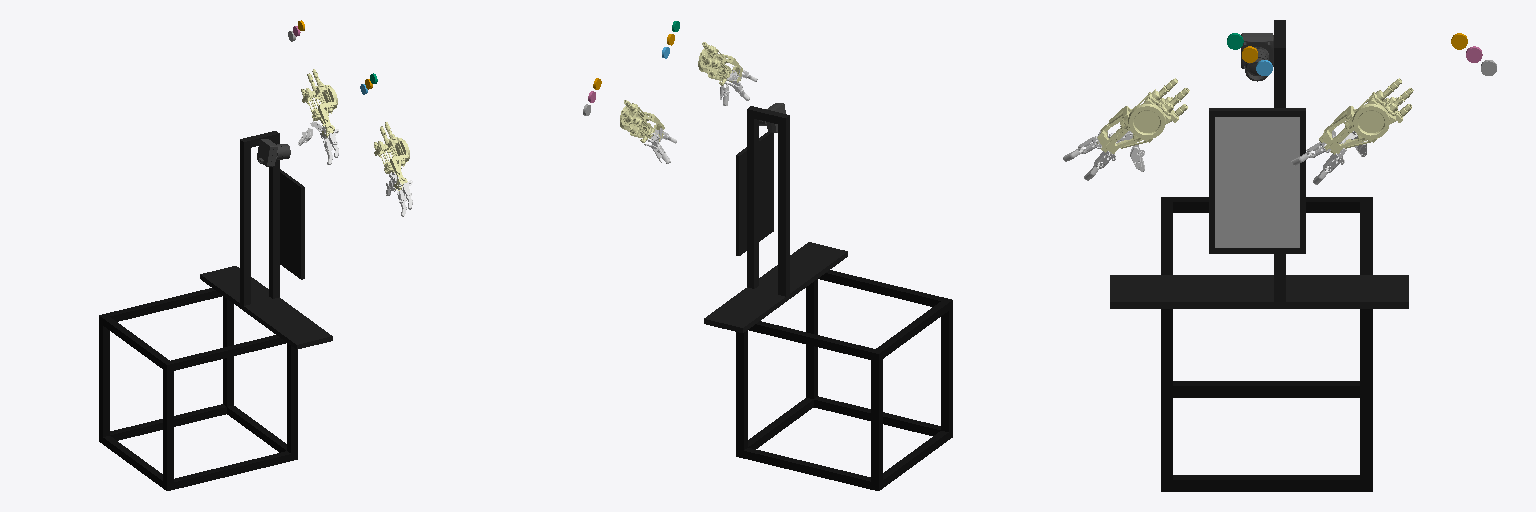
--- Facts derived from the render (not from the file) ---
The picture shows the robot from 3 angles, left to right: view 1: azimuth 30°, elevation 25°; view 2: azimuth 150°, elevation 25°; view 3: azimuth 270°, elevation 25°; orthographic projection.
Model avatar with 65 links and 64 joints (34 revolute, 30 fixed), rooted at base, posed joints at zero except 8 at the middle of their limits (right_panda_joint4 = -1.57, right_thumb_flex_motor_joint = -1.19, right_thumb_swivel_motor_joint = -1.18, right_index_flex_motor_joint = -1.19, left_panda_joint4 = -1.57, left_thumb_flex_motor_joint = -1.19, +2 more).
Visible links, largest first — view 1: base, support, cam_support, screen, left_gripper_base, right_gripper_base, camera; view 2: base, cam_support, support, screen, left_gripper_base, right_gripper_base; view 3: base, screen, support, left_gripper_base, right_gripper_base, cam_support, camera.
Boxes of the visible links, x1,y1,x2,y2 form: base: [99, 288, 297, 490]; support: [200, 266, 332, 349]; cam_support: [240, 131, 279, 309]; screen: [280, 169, 304, 279]; left_gripper_base: [301, 69, 337, 137]; right_gripper_base: [374, 122, 409, 190]; camera: [257, 139, 290, 166]; base: [736, 270, 952, 490]; cam_support: [747, 106, 789, 298]; support: [704, 242, 847, 332]; screen: [736, 132, 773, 255]; left_gripper_base: [620, 100, 664, 142]; right_gripper_base: [698, 42, 742, 85]; base: [1161, 197, 1372, 491]; screen: [1209, 108, 1305, 253]; support: [1110, 275, 1408, 308]; left_gripper_base: [1319, 78, 1413, 154]; right_gripper_base: [1097, 78, 1189, 153]; cam_support: [1274, 20, 1285, 306]; camera: [1241, 33, 1273, 81].
Bounding box of the posed robot: 1 × 1.05 × 1.42 m (x, y, z).
21 mesh visuals loaded from 25 distinct referenced files (9 binary STL); not drawn: 16 (reference not matched to a file when rendering).

robot.urdf — avatar:
<?xml version="1.0" ?>
<!-- =================================================================================== -->
<!-- |    This document was autogenerated by xacro from [local-path]/repo/avatar_ws/src/avatar_simulation/avatar_robot_description/franka/dual_panda/dual_panda_example.urdf.xacro | -->
<!-- |    EDITING THIS FILE BY HAND IS NOT RECOMMENDED                                 | -->
<!-- =================================================================================== -->
<robot name="avatar">
  <!-- box shaped table as base for the 2 Pandas -->
  <!-- prop in meters -->
  <link name="base">
    <!-- Box edge visualization -->
    <!-- Top face -->
    <visual>
      <origin rpy="0 0 0" xyz="0.26749999999999996 0 -0.245"/>
      <geometry>
        <box size="0.03 0.51 0.03"/>
      </geometry>
      <material name="Mat Black 1">
        <color rgba="0.1 0.1 0.1 1.0"/>
      </material>
    </visual>
    <visual>
      <origin rpy="0 0 0" xyz="0.26749999999999996 0 0.245"/>
      <geometry>
        <box size="0.03 0.51 0.03"/>
      </geometry>
      <material name="Mat Black 1">
        <color rgba="0.1 0.1 0.1 1.0"/>
      </material>
    </visual>
    <visual>
      <origin rpy="0 0 0" xyz="0.26749999999999996 -0.24 0"/>
      <geometry>
        <box size="0.03 0.03 0.52"/>
      </geometry>
      <material name="Mat Black 1">
        <color rgba="0.1 0.1 0.1 1.0"/>
      </material>
    </visual>
    <visual>
      <origin rpy="0 0 0" xyz="0.26749999999999996 0.24 0"/>
      <geometry>
        <box size="0.03 0.03 0.52"/>
      </geometry>
      <material name="Mat Black 1">
        <color rgba="0.1 0.1 0.1 1.0"/>
      </material>
    </visual>
    <!-- Bottom face -->
    <visual>
      <origin rpy="0 0 0" xyz="-0.26749999999999996 0 -0.245"/>
      <geometry>
        <box size="0.03 0.51 0.03"/>
      </geometry>
      <material name="Mat Black 1">
        <color rgba="0.1 0.1 0.1 1.0"/>
      </material>
    </visual>
    <visual>
      <origin rpy="0 0 0" xyz="-0.26749999999999996 0 0.245"/>
      <geometry>
        <box size="0.03 0.51 0.03"/>
      </geometry>
      <material name="Mat Black 1">
        <color rgba="0.1 0.1 0.1 1.0"/>
      </material>
    </visual>
    <visual>
      <origin rpy="0 0 0" xyz="-0.26749999999999996 -0.24 0"/>
      <geometry>
        <box size="0.03 0.03 0.52"/>
      </geometry>
      <material name="Mat Black 1">
        <color rgba="0.1 0.1 0.1 1.0"/>
      </material>
    </visual>
    <visual>
      <origin rpy="0 0 0" xyz="-0.26749999999999996 0.24 0"/>
      <geometry>
        <box size="0.03 0.03 0.52"/>
      </geometry>
      <material name="Mat Black 1">
        <color rgba="0.1 0.1 0.1 1.0"/>
      </material>
    </visual>
    <!-- Side faces -->
    <!-- right -->
    <visual>
      <origin rpy="0 0 0" xyz="0 0.24 -0.245"/>
      <geometry>
        <box size="0.565 0.03 0.03"/>
      </geometry>
      <material name="Mat Black 1">
        <color rgba="0.1 0.1 0.1 1.0"/>
      </material>
    </visual>
    <visual>
      <origin rpy="0 0 0" xyz="0 0.24 0.245"/>
      <geometry>
        <box size="0.565 0.03 0.03"/>
      </geometry>
      <material name="Mat Black 1">
        <color rgba="0.1 0.1 0.1 1.0"/>
      </material>
    </visual>
    <visual>
      <origin rpy="0 0 0" xyz="-0.26749999999999996 0.24 0"/>
      <geometry>
        <box size="0.03 0.03 0.52"/>
      </geometry>
      <material name="Mat Black 1">
        <color rgba="0.1 0.1 0.1 1.0"/>
      </material>
    </visual>
    <visual>
      <origin rpy="0 0 0" xyz="0.26749999999999996 0.24 0"/>
      <geometry>
        <box size="0.03 0.03 0.52"/>
      </geometry>
      <material name="Mat Black 1">
        <color rgba="0.1 0.1 0.1 1.0"/>
      </material>
    </visual>
    <!-- left -->
    <visual>
      <origin rpy="0 0 0" xyz="0 -0.24 -0.245"/>
      <geometry>
        <box size="0.565 0.03 0.03"/>
      </geometry>
      <material name="Mat Black 1">
        <color rgba="0.1 0.1 0.1 1.0"/>
      </material>
    </visual>
    <visual>
      <origin rpy="0 0 0" xyz="0 -0.24 0.245"/>
      <geometry>
        <box size="0.565 0.03 0.03"/>
      </geometry>
      <material name="Mat Black 1">
        <color rgba="0.1 0.1 0.1 1.0"/>
      </material>
    </visual>
    <visual>
      <origin rpy="0 0 0" xyz="-0.26749999999999996 -0.24 0"/>
      <geometry>
        <box size="0.03 0.03 0.52"/>
      </geometry>
      <material name="Mat Black 1">
        <color rgba="0.1 0.1 0.1 1.0"/>
      </material>
    </visual>
    <visual>
      <origin rpy="0 0 0" xyz="0.26749999999999996 -0.24 0"/>
      <geometry>
        <box size="0.03 0.03 0.52"/>
      </geometry>
      <material name="Mat Black 1">
        <color rgba="0.1 0.1 0.1 1.0"/>
      </material>
    </visual>
    <!-- Solid box collision -->
    <collision>
      <origin rpy="0 0 0" xyz="0 0 0"/>
      <geometry>
        <box size="0.565 0.51 0.52"/>
      </geometry>
    </collision>
  </link>
  <link name="support">
    <visual>
      <origin rpy="0 0 0" xyz="0 0 0"/>
      <geometry>
        <box size="0.155 0.721 0.02"/>
      </geometry>
      <material name="Mat Black 2">
        <color rgba="0.15 0.15 0.15 1.0"/>
      </material>
    </visual>
    <collision>
      <origin rpy="0 0 0" xyz="0 0 0"/>
      <geometry>
        <box size="0.155 0.721 0.02"/>
      </geometry>
    </collision>
  </link>
  <link name="cam_support">
    <visual>
      <origin rpy="0 0 0" xyz="-0.0625 0 0.3225"/>
      <geometry>
        <box size="0.03 0.03 0.675"/>
      </geometry>
      <material name="Mat Black 2">
        <color rgba="0.15 0.15 0.15 1.0"/>
      </material>
    </visual>
    <visual>
      <origin rpy="0 0 0" xyz="0.0625 0 0.3225"/>
      <geometry>
        <box size="0.03 0.03 0.675"/>
      </geometry>
      <material name="Mat Black 2">
        <color rgba="0.15 0.15 0.15 1.0"/>
      </material>
    </visual>
    <visual>
      <origin rpy="0 0 0" xyz="0 0 0.66"/>
      <geometry>
        <box size="0.155 0.03 0.03"/>
      </geometry>
      <material name="Mat Black 2">
        <color rgba="0.15 0.15 0.15 1.0"/>
      </material>
    </visual>
    <collision>
      <origin rpy="0 0 0" xyz="0 0 0"/>
      <geometry>
        <box size="0.155 0.03 0.675"/>
      </geometry>
    </collision>
  </link>
  <link name="camera">
    <visual>
      <origin rpy="0 0 0" xyz="0 0 0"/>
      <geometry>
        <mesh filename="package://avatar_robot_description/meshes/visual/Digital_Camera_USB.stl"/>
      </geometry>
      <material name="">
        <color rgba="0.3 0.3 0.3 1"/>
      </material>
    </visual>
    <collision>
      <origin rpy="0 0 0" xyz="0 0 0"/>
      <geometry>
        <mesh filename="package://avatar_robot_description/meshes/visual/Digital_Camera_USB.stl"/>
      </geometry>
    </collision>
  </link>
  <link name="screen">
    <visual>
      <origin rpy="0 0 0" xyz="-0.0001 0 0"/>
      <geometry>
        <box size="0.015 0.235 0.38"/>
      </geometry>
      <material name="Mat Black 2">
        <color rgba="0.15 0.15 0.15 1.0"/>
      </material>
    </visual>
    <visual>
      <origin rpy="0 0 0" xyz="0 0 0"/>
      <geometry>
        <box size="0.015 0.205 0.35"/>
      </geometry>
      <material name="">
        <color rgba="0.70 0.70 0.70 0.5"/>
      </material>
    </visual>
    <collision>
      <origin rpy="0 0 0" xyz="0 0 0"/>
      <geometry>
        <box size="0.015 0.225 0.37"/>
      </geometry>
    </collision>
  </link>
  <!-- joints -->
  <joint name="fixed_joint" type="fixed">
    <parent link="base"/>
    <child link="support"/>
    <origin rpy="0 0 0" xyz="0.2825 -0.018 0.27"/>
  </joint>
  <joint name="fixed_joint_2" type="fixed">
    <parent link="support"/>
    <child link="cam_support"/>
    <origin rpy="0 0 0" xyz="0 0.0505 0.01"/>
  </joint>
  <joint name="fixed_joint_3" type="fixed">
    <parent link="cam_support"/>
    <child link="camera"/>
    <origin rpy="0 1.75 0" xyz="0 -0.055 0.63"/>
  </joint>
  <joint name="fixed_joint_4" type="fixed">
    <parent link="cam_support"/>
    <child link="screen"/>
    <origin rpy="0 0 0" xyz="0.0875 -0.055 0.325"/>
  </joint>
  <joint name="right_panda_joint_support" type="fixed">
    <parent link="support"/>
    <child link="right_panda_link0"/>
    <origin rpy="0 0 0" xyz="0.06975 -0.27 0.01"/>
  </joint>
  <!-- sub-link defining detailed meshes for collision with environment -->
  <link name="right_panda_link0">
    <visual>
      <geometry>
        <mesh filename="package://avatar_robot_description/meshes/visual/link0.dae"/>
      </geometry>
    </visual>
    <collision>
      <geometry>
        <mesh filename="package://avatar_robot_description/meshes/collision/link0.stl"/>
      </geometry>
    </collision>
    <inertial>
      <origin rpy="0 0 0" xyz="-0.041018 -0.00014 0.049974"/>
      <mass value="0.629769"/>
      <inertia ixx="0.00315" ixy="8.2904e-07" ixz="0.00015" iyy="0.00388" iyz="8.2299e-06" izz="0.004285"/>
    </inertial>
  </link>
  <!-- sub-link defining coarse geometries of real robot's internal self-collision -->
  <link name="right_panda_link0_sc">
  </link>
  <!-- fixed joint between both sub-links -->
  <joint name="right_panda_link0_sc_joint" type="fixed">
    <origin rpy="0 0 0"/>
    <parent link="right_panda_link0"/>
    <child link="right_panda_link0_sc"/>
  </joint>
  <!-- sub-link defining detailed meshes for collision with environment -->
  <link name="right_panda_link1">
    <visual>
      <geometry>
        <mesh filename="package://avatar_robot_description/meshes/visual/link1.dae"/>
      </geometry>
    </visual>
    <collision>
      <geometry>
        <mesh filename="package://avatar_robot_description/meshes/collision/link1.stl"/>
      </geometry>
    </collision>
    <inertial>
      <origin rpy="0 0 0" xyz="0.003875 0.002081 -0.04762"/>
      <mass value="4.970684"/>
      <inertia ixx="0.70337" ixy="-0.000139" ixz="0.006772" iyy="0.70661" iyz="0.019169" izz="0.009117"/>
    </inertial>
  </link>
  <!-- sub-link defining coarse geometries of real robot's internal self-collision -->
  <link name="right_panda_link1_sc">
  </link>
  <!-- fixed joint between both sub-links -->
  <joint name="right_panda_link1_sc_joint" type="fixed">
    <origin rpy="0 0 0"/>
    <parent link="right_panda_link1"/>
    <child link="right_panda_link1_sc"/>
  </joint>
  <joint name="right_panda_joint1" type="revolute">
    <origin rpy="0 0 0" xyz="0 0 0.333"/>
    <parent link="right_panda_link0"/>
    <child link="right_panda_link1"/>
    <axis xyz="0 0 1"/>
    <limit effort="87.0" lower="-2.8973" upper="2.8973" velocity="2.175"/>
    <safety_controller k_position="100.0" k_velocity="40.0" soft_lower_limit="-2.8973" soft_upper_limit="2.8973"/>
    <dynamics D="1" K="7000" damping="0.003" friction="0.0" mu_coulomb="0" mu_viscous="16"/>
  </joint>
  <!-- sub-link defining detailed meshes for collision with environment -->
  <link name="right_panda_link2">
    <visual>
      <geometry>
        <mesh filename="package://avatar_robot_description/meshes/visual/link2.dae"/>
      </geometry>
    </visual>
    <collision>
      <geometry>
        <mesh filename="package://avatar_robot_description/meshes/collision/link2.stl"/>
      </geometry>
    </collision>
    <inertial>
      <origin rpy="0 0 0" xyz="-0.003141 -0.02872  0.003495"/>
      <mass value="0.646926"/>
      <inertia ixx="0.007962" ixy="-0.003925" ixz="0.010254" iyy="0.02811" iyz="0.000704" izz="0.025995"/>
    </inertial>
  </link>
  <!-- sub-link defining coarse geometries of real robot's internal self-collision -->
  <link name="right_panda_link2_sc">
  </link>
  <!-- fixed joint between both sub-links -->
  <joint name="right_panda_link2_sc_joint" type="fixed">
    <origin rpy="0 0 0"/>
    <parent link="right_panda_link2"/>
    <child link="right_panda_link2_sc"/>
  </joint>
  <joint name="right_panda_joint2" type="revolute">
    <origin rpy="-1.5707963267948966 0 0" xyz="0 0 0"/>
    <parent link="right_panda_link1"/>
    <child link="right_panda_link2"/>
    <axis xyz="0 0 1"/>
    <limit effort="87.0" lower="-1.7628" upper="1.7628" velocity="2.175"/>
    <safety_controller k_position="100.0" k_velocity="40.0" soft_lower_limit="-1.7628" soft_upper_limit="1.7628"/>
    <dynamics D="1" K="7000" damping="0.003" friction="0.0" mu_coulomb="0" mu_viscous="16"/>
  </joint>
  <!-- sub-link defining detailed meshes for collision with environment -->
  <link name="right_panda_link3">
    <visual>
      <geometry>
        <mesh filename="package://avatar_robot_description/meshes/visual/link3.dae"/>
      </geometry>
    </visual>
    <collision>
      <geometry>
        <mesh filename="package://avatar_robot_description/meshes/collision/link3.stl"/>
      </geometry>
    </collision>
    <inertial>
      <origin rpy="0 0 0" xyz="2.7518e-02 3.9252e-02 -6.6502e-02"/>
      <mass value="3.228604"/>
      <inertia ixx="0.037242" ixy="-0.004761" ixz="-0.011396" iyy="0.036155" iyz="-0.012805" izz="0.01083"/>
    </inertial>
  </link>
  <!-- sub-link defining coarse geometries of real robot's internal self-collision -->
  <link name="right_panda_link3_sc">
  </link>
  <!-- fixed joint between both sub-links -->
  <joint name="right_panda_link3_sc_joint" type="fixed">
    <origin rpy="0 0 0"/>
    <parent link="right_panda_link3"/>
    <child link="right_panda_link3_sc"/>
  </joint>
  <joint name="right_panda_joint3" type="revolute">
    <origin rpy="1.5707963267948966 0 0" xyz="0 -0.316 0"/>
    <parent link="right_panda_link2"/>
    <child link="right_panda_link3"/>
    <axis xyz="0 0 1"/>
    <limit effort="87.0" lower="-2.8973" upper="2.8973" velocity="2.175"/>
    <safety_controller k_position="100.0" k_velocity="40.0" soft_lower_limit="-2.8973" soft_upper_limit="2.8973"/>
    <dynamics D="1" K="7000" damping="0.003" friction="0.0" mu_coulomb="0" mu_viscous="16"/>
  </joint>
  <!-- sub-link defining detailed meshes for collision with environment -->
  <link name="right_panda_link4">
    <visual>
      <geometry>
        <mesh filename="package://avatar_robot_description/meshes/visual/link4.dae"/>
      </geometry>
    </visual>
    <collision>
      <geometry>
        <mesh filename="package://avatar_robot_description/meshes/collision/link4.stl"/>
      </geometry>
    </collision>
    <inertial>
      <origin rpy="0 0 0" xyz="-5.317e-02 1.04419e-01 2.7454e-02"/>
      <mass value="3.587895"/>
      <inertia ixx="0.025853" ixy="0.007796" ixz="-0.001332" iyy="0.019552" iyz="0.008641" izz="0.028323"/>
    </inertial>
  </link>
  <!-- sub-link defining coarse geometries of real robot's internal self-collision -->
  <link name="right_panda_link4_sc">
  </link>
  <!-- fixed joint between both sub-links -->
  <joint name="right_panda_link4_sc_joint" type="fixed">
    <origin rpy="0 0 0"/>
    <parent link="right_panda_link4"/>
    <child link="right_panda_link4_sc"/>
  </joint>
  <joint name="right_panda_joint4" type="revolute">
    <origin rpy="1.5707963267948966 0 0" xyz="0.0825 0 0"/>
    <parent link="right_panda_link3"/>
    <child link="right_panda_link4"/>
    <axis xyz="0 0 1"/>
    <limit effort="87.0" lower="-3.0718" upper="-0.0698" velocity="2.175"/>
    <safety_controller k_position="100.0" k_velocity="40.0" soft_lower_limit="-3.0718" soft_upper_limit="-0.0698"/>
    <dynamics D="1" K="7000" damping="0.003" friction="0.0" mu_coulomb="0" mu_viscous="16"/>
  </joint>
  <!-- sub-link defining detailed meshes for collision with environment -->
  <link name="right_panda_link5">
    <visual>
      <geometry>
        <mesh filename="package://avatar_robot_description/meshes/visual/link5.dae"/>
      </geometry>
    </visual>
    <collision>
      <geometry>
        <mesh filename="package://avatar_robot_description/meshes/collision/link5.stl"/>
      </geometry>
    </collision>
    <inertial>
      <origin rpy="0 0 0" xyz="-1.1953e-02 4.1065e-02 -3.8437e-02"/>
      <mass value="1.225946"/>
      <inertia ixx="0.035549" ixy="-0.002117" ixz="-0.004037" iyy="0.029474" iyz="0.000229" izz="0.008627"/>
    </inertial>
  </link>
  <!-- sub-link defining coarse geometries of real robot's internal self-collision -->
  <link name="right_panda_link5_sc">
  </link>
  <!-- fixed joint between both sub-links -->
  <joint name="right_panda_link5_sc_joint" type="fixed">
    <origin rpy="0 0 0"/>
    <parent link="right_panda_link5"/>
    <child link="right_panda_link5_sc"/>
  </joint>
  <joint name="right_panda_joint5" type="revolute">
    <origin rpy="-1.5707963267948966 0 0" xyz="-0.0825 0.384 0"/>
    <parent link="right_panda_link4"/>
    <child link="right_panda_link5"/>
    <axis xyz="0 0 1"/>
    <limit effort="12.0" lower="-2.8973" upper="2.8973" velocity="2.61"/>
    <safety_controller k_position="100.0" k_velocity="40.0" soft_lower_limit="-2.8973" soft_upper_limit="2.8973"/>
    <dynamics D="1" K="7000" damping="0.003" friction="0.0" mu_coulomb="0" mu_viscous="16"/>
  </joint>
  <!-- sub-link defining detailed meshes for collision with environment -->
  <link name="right_panda_link6">
    <visual>
      <geometry>
        <mesh filename="package://avatar_robot_description/meshes/visual/link6.dae"/>
      </geometry>
    </visual>
    <collision>
      <geometry>
        <mesh filename="package://avatar_robot_description/meshes/collision/link6.stl"/>
      </geometry>
    </collision>
    <inertial>
      <origin rpy="0 0 0" xyz="6.0149e-02 -1.4117e-02 -1.0517e-02"/>
      <mass value="1.666555"/>
      <inertia ixx="0.001964" ixy="0.000109" ixz="-0.001158" iyy="0.004354" iyz="0.000341" izz="0.005433"/>
    </inertial>
  </link>
  <!-- sub-link defining coarse geometries of real robot's internal self-collision -->
  <link name="right_panda_link6_sc">
  </link>
  <!-- fixed joint between both sub-links -->
  <joint name="right_panda_link6_sc_joint" type="fixed">
    <origin rpy="0 0 0"/>
    <parent link="right_panda_link6"/>
    <child link="right_panda_link6_sc"/>
  </joint>
  <joint name="right_panda_joint6" type="revolute">
    <origin rpy="1.5707963267948966 0 0" xyz="0 0 0"/>
    <parent link="right_panda_link5"/>
    <child link="right_panda_link6"/>
    <axis xyz="0 0 1"/>
    <limit effort="12.0" lower="-0.0175" upper="3.7525" velocity="2.61"/>
    <safety_controller k_position="100.0" k_velocity="40.0" soft_lower_limit="-0.0175" soft_upper_limit="3.7525"/>
    <dynamics D="1" K="7000" damping="0.003" friction="0.0" mu_coulomb="0" mu_viscous="16"/>
  </joint>
  <!-- sub-link defining detailed meshes for collision with environment -->
  <link name="right_panda_link7">
    <visual>
      <geometry>
        <mesh filename="package://avatar_robot_description/meshes/visual/link7.dae"/>
      </geometry>
    </visual>
    <collision>
      <geometry>
        <mesh filename="package://avatar_robot_description/meshes/collision/link7.stl"/>
      </geometry>
    </collision>
    <inertial>
      <origin rpy="0 0 0" xyz="1.0517e-02 -4.252e-03 6.1597e-02"/>
      <mass value="0.735522"/>
      <inertia ixx="0.012516" ixy="-0.000428" ixz="-0.001196" iyy="0.010027" iyz="-0.000741" izz="0.004815"/>
    </inertial>
  </link>
  <!-- sub-link defining coarse geometries of real robot's internal self-collision -->
  <link name="right_panda_link7_sc">
  </link>
  <!-- fixed joint between both sub-links -->
  <joint name="right_panda_link7_sc_joint" type="fixed">
    <origin rpy="0 0 0.7853981633974483"/>
    <parent link="right_panda_link7"/>
    <child link="right_panda_link7_sc"/>
  </joint>
  <joint name="right_panda_joint7" type="revolute">
    <origin rpy="1.5707963267948966 0 0" xyz="0.088 0 0"/>
    <parent link="right_panda_link6"/>
    <child link="right_panda_link7"/>
    <axis xyz="0 0 1"/>
    <limit effort="12.0" lower="-2.8973" upper="2.8973" velocity="2.61"/>
    <safety_controller k_position="100.0" k_velocity="40.0" soft_lower_limit="-2.8973" soft_upper_limit="2.8973"/>
    <dynamics D="1" K="7000" damping="0.003" friction="0.0" mu_coulomb="0" mu_viscous="16"/>
  </joint>
  <link name="right_panda_link8"/>
  <joint name="right_panda_joint8" type="fixed">
    <origin rpy="0 0 0" xyz="0 0 0.107"/>
    <parent link="right_panda_link7"/>
    <child link="right_panda_link8"/>
  </joint>
  <link name="right_thumb_base">
    <inertial>
      <mass value="0.5"/>
      <inertia ixx="4E-5" ixy="0.0" ixz="0.0" iyy="4E-5" iyz="0.0" izz="4E-5"/>
    </inertial>
    <visual>
      <origin rpy="0 0 0" xyz="0 0 0"/>
      <geometry>
        <mesh filename="package://avatar_gripper_description/meshes/right/thumb_base_extra.STL"/>
      </geometry>
      <material name="">
        <color rgba="0.9 0.9 0.9 1"/>
      </material>
    </visual>
    <collision>
      <origin rpy="0 0 0" xyz="0 0 0"/>
      <geometry>
        <mesh filename="package://avatar_gripper_description/meshes/right/thumb_base_extra.STL"/>
      </geometry>
    </collision>
  </link>
  <link name="right_thumb_knuckle">
    <inertial>
      <mass value="0.5"/>
      <inertia ixx="4E-5" ixy="0.0" ixz="0.0" iyy="4E-5" iyz="0.0" izz="4E-5"/>
    </inertial>
    <visual>
      <origin rpy="0 0 0" xyz="0 0 0"/>
      <geometry>
        <mesh filename="package://avatar_gripper_description/meshes/right/thumb_knuckle.STL"/>
      </geometry>
      <material name="">
        <color rgba="0.9 0.9 0.9 1"/>
      </material>
    </visual>
    <collision>
      <origin rpy="0 0 0" xyz="0 0 0"/>
      <geometry>
        <mesh filename="package://avatar_gripper_description/meshes/right/thumb_knuckle.STL"/>
      </geometry>
    </collision>
  </link>
  <joint name="right_thumb_knuckle_joint" type="revolute">
    <origin rpy="0 2.75 0" xyz="0 0 0"/>
    <parent link="right_thumb_base"/>
    <child link="right_thumb_knuckle"/>
    <axis xyz="0 1 0"/>
    <limit effort="1000" lower="-1.0" upper="0.4" velocity="2.0"/>
  </joint>
  <link name="right_thumb_finger">
    <inertial>
      <mass value="0.5"/>
      <inertia ixx="4E-5" ixy="0.0" ixz="0.0" iyy="4E-5" iyz="0.0" izz="4E-5"/>
    </inertial>
    <visual>
      <origin rpy="0 0 0" xyz="0 0 0"/>
      <geometry>
        <mesh filename="package://avatar_gripper_description/meshes/right/thumb_fingertip.STL"/>
      </geometry>
      <material name="">
        <color rgba="0.9 0.9 0.9 1"/>
      </material>
    </visual>
    <collision>
      <origin rpy="0 0 0" xyz="0 0 0"/>
      <geometry>
        <mesh filename="package://avatar_gripper_description/meshes/right/thumb_fingertip.STL"/>
      </geometry>
    </collision>
  </link>
  <joint name="right_thumb_finger_joint" type="revolute">
    <origin rpy="0 0.57 0" xyz="0.04568 0 0.01106"/>
    <parent link="right_thumb_knuckle"/>
    <child link="right_thumb_finger"/>
    <axis xyz="0 1 0"/>
    <limit effort="1000" lower="-0.8" upper="0" velocity="2.0"/>
  </joint>
  <link name="right_thumb_swivel_link">
    <inertial>
      <mass value="0.1"/>
      <inertia ixx="4E-5" ixy="0.0" ixz="0.0" iyy="4E-5" iyz="0.0" izz="4E-5"/>
    </inertial>
    <visual>
      <origin rpy="0 0 0" xyz="0 0 0"/>
      <geometry>
        <mesh filename="package://avatar_gripper_description/meshes/right/thumb_swivel_link.STL"/>
      </geometry>
      <material name="">
        <color rgba="0.9 0.9 0.9 1"/>
      </material>
    </visual>
    <collision>
      <origin rpy="0 0 0" xyz="0 0 0"/>
      <geometry>
        <mesh filename="package://avatar_gripper_description/meshes/right/thumb_swivel_link.STL"/>
      </geometry>
    </collision>
  </link>
  <joint name="right_thumb_swivel_joint" type="revolute">
    <origin rpy="0 0 0" xyz="0 0 0.0173"/>
    <parent link="right_index_base_connector"/>
    <child link="right_thumb_swivel_link"/>
    <axis xyz="0 0 1"/>
    <limit effort="1000" lower="0" upper="1.7" velocity="2.0"/>
  </joint>
  <joint name="right_thumb_base_swivel_joint" type="fixed">
    <origin rpy="0 0 0" xyz="-0.03742 0 0.05089"/>
    <parent link="right_thumb_swivel_link"/>
    <child link="right_thumb_base"/>
  </joint>
  <link name="right_index_base_connector">
    <inertial>
      <mass value="0.02"/>
      <inertia ixx="4E-5" ixy="0.0" ixz="0.0" iyy="4E-5" iyz="0.0" izz="4E-5"/>
    </inertial>
    <visual>
      <origin rpy="0 0 0" xyz="0 0 0"/>
      <geometry>
        <mesh filename="package://avatar_gripper_description/meshes/right/index_base_connector.STL"/>
      </geometry>
      <material name="">
        <color rgba="0.9 0.9 0.9 1"/>
      </material>
    </visual>
  </link>
  <link name="right_index_knuckle">
    <inertial>
      <mass value="0.5"/>
      <inertia ixx="4E-5" ixy="0.0" ixz="0.0" iyy="4E-5" iyz="0.0" izz="4E-5"/>
    </inertial>
    <visual>
      <origin rpy="0 0 0" xyz="0 0 0"/>
      <geometry>
        <mesh filename="package://avatar_gripper_description/meshes/right/index_knuckle.STL"/>
      </geometry>
      <material name="">
        <color rgba="0.9 0.9 0.9 1"/>
      </material>
    </visual>
    <collision>
      <origin rpy="0 0 0" xyz="0 0 0"/>
      <geometry>
        <mesh filename="package://avatar_gripper_description/meshes/right/index_knuckle.STL"/>
      </geometry>
    </collision>
  </link>
  <joint name="right_index_knuckle_joint" type="revolute">
    <origin rpy="1.94428593 1.07478656 1.98996937" xyz="-0.021564878 0.008545 -0.0024358"/>
    <parent link="right_index_base_connector"/>
    <child link="right_index_knuckle"/>
    <axis xyz="0 0 1"/>
    <limit effort="1000" lower="-0.8" upper="0" velocity="2.0"/>
  </joint>
  <link name="right_index_fingertip">
    <inertial>
      <mass value="0.5"/>
      <inertia ixx="4E-5" ixy="0.0" ixz="0.0" iyy="4E-5" iyz="0.0" izz="4E-5"/>
    </inertial>
    <visual>
      <origin rpy="0 0 0" xyz="0 0 0"/>
      <geometry>
        <mesh filename="package://avatar_gripper_description/meshes/right/index_fingertip.STL"/>
      </geometry>
      <material name="">
        <color rgba="0.9 0.9 0.9 1"/>
      </material>
    </visual>
    <collision>
      <origin rpy="0 0 0" xyz="0 0 0"/>
      <geometry>
        <mesh filename="package://avatar_gripper_description/meshes/right/index_fingertip.STL"/>
      </geometry>
    </collision>
  </link>
  <joint name="right_index_fingertip_joint" type="revolute">
    <origin rpy="0 0 -0.35" xyz="0.0353829 -0.02780 0"/>
    <parent link="right_index_knuckle"/>
    <child link="right_index_fingertip"/>
    <axis xyz="0 0 1"/>
    <limit effort="1000" lower="-0.8" upper="0" velocity="2.0"/>
  </joint>
  <link name="right_middle_knuckle">
    <inertial>
      <mass value="0.5"/>
      <inertia ixx="4E-5" ixy="0.0" ixz="0.0" iyy="4E-5" iyz="0.0" izz="4E-5"/>
    </inertial>
    <visual>
      <origin rpy="0 0 0" xyz="0 0 0"/>
      <geometry>
        <mesh filename="package://avatar_gripper_description/meshes/right/index_knuckle.STL"/>
      </geometry>
      <material name="">
        <color rgba="0.9 0.9 0.9 1"/>
      </material>
    </visual>
    <collision>
      <origin rpy="0 0 0" xyz="0 0 0"/>
      <geometry>
        <mesh filename="package://avatar_gripper_description/meshes/right/index_knuckle.STL"/>
      </geometry>
    </collision>
  </link>
  <joint name="right_middle_knuckle_joint" type="revolute">
    <origin rpy="1.19730672 1.07478656 1.15162329" xyz="0.02156 0.008545 -0.0024358"/>
    <parent link="right_index_base_connector"/>
    <child link="right_middle_knuckle"/>
    <axis xyz="0 0 1"/>
    <limit effort="1000" lower="-0.8" upper="0" velocity="2.0"/>
  </joint>
  <link name="right_middle_fingertip">
    <inertial>
      <mass value="0.5"/>
      <inertia ixx="4E-5" ixy="0.0" ixz="0.0" iyy="4E-5" iyz="0.0" izz="4E-5"/>
    </inertial>
    <visual>
      <origin rpy="0 0 0" xyz="0 0 0"/>
      <geometry>
        <mesh filename="package://avatar_gripper_description/meshes/right/index_fingertip.STL"/>
      </geometry>
      <material name="">
        <color rgba="0.9 0.9 0.9 1"/>
      </material>
    </visual>
    <collision>
      <origin rpy="0 0 0" xyz="0 0 0"/>
      <geometry>
        <mesh filename="package://avatar_gripper_description/meshes/right/index_fingertip.STL"/>
      </geometry>
    </collision>
  </link>
  <joint name="right_middle_fingertip_joint" type="revolute">
    <origin rpy="0 0 -0.35" xyz="0.0353829 -0.02780 0"/>
    <parent link="right_middle_knuckle"/>
    <child link="right_middle_fingertip"/>
    <axis xyz="0 0 1"/>
    <limit effort="1000" lower="-0.8" upper="0" velocity="2.0"/>
  </joint>
  <link name="right_gripper_base">
    <inertial>
      <mass value="2.0"/>
      <inertia ixx="7.11E-3" ixy="0.0" ixz="0.0" iyy="7.11E-3" iyz="0.0" izz="7.11E-3"/>
    </inertial>
    <visual>
      <origin rpy="0 0 0" xyz="0 0 0"/>
      <geometry>
        <mesh filename="package://avatar_gripper_description/meshes/right/gripper_base.STL"/>
      </geometry>
      <material name="">
        <color rgba="0.9 0.9 0.7 1"/>
      </material>
    </visual>
    <collision>
      <origin rpy="0 0 0" xyz="0 0 -0.03"/>
      <geometry>
        <box size="0.1 0.1 0.06"/>
      </geometry>
    </collision>
  </link>
  <joint name="right_gripper_base_joint" type="fixed">
    <origin rpy="1.57 0 0" xyz="0.00736 0.139 -0.066017"/>
    <parent link="right_gripper_base"/>
    <child link="right_index_base_connector"/>
  </joint>
  <link name="right_thumb_flex_motor">
    <inertial>
      <mass value="0.25"/>
      <inertia ixx="1.463E-04" ixy="0" ixz="0" iyy="1.463E-04" iyz="0" izz="1.463E-04"/>
    </inertial>
    <visual>
      <origin rpy="0 0 0" xyz="0 0 0"/>
      <geometry>
        <cylinder length="0.01" radius="0.02"/>
      </geometry>
    </visual>
  </link>
  <joint name="right_thumb_flex_motor_joint" type="revolute">
    <origin rpy="0 0 0" xyz="-0.05 -0.3 0"/>
    <parent link="right_gripper_base"/>
    <child link="right_thumb_flex_motor"/>
    <axis xyz="0 0 1"/>
    <limit effort="1000" lower="-2.3" upper="-0.08" velocity="2.0"/>
  </joint>
  <link name="right_thumb_swivel_motor">
    <inertial>
      <mass value="0.25"/>
      <inertia ixx="1.463E-04" ixy="0" ixz="0" iyy="1.463E-04" iyz="0" izz="1.463E-04"/>
    </inertial>
    <visual>
      <origin rpy="0 0 0" xyz="0 0 0"/>
      <geometry>
        <cylinder length="0.01" radius="0.02"/>
      </geometry>
    </visual>
  </link>
  <joint name="right_thumb_swivel_motor_joint" type="revolute">
    <origin rpy="0 0 0" xyz="-0.1 -0.3 0"/>
    <parent link="right_gripper_base"/>
    <child link="right_thumb_swivel_motor"/>
    <axis xyz="0 0 1"/>
    <limit effort="1000" lower="-2.3" upper="-0.05" velocity="2.0"/>
  </joint>
  <link name="right_index_flex_motor">
    <inertial>
      <mass value="0.25"/>
      <inertia ixx="1.463E-04" ixy="0" ixz="0" iyy="1.463E-04" iyz="0" izz="1.463E-04"/>
    </inertial>
    <visual>
      <origin rpy="0 0 0" xyz="0 0 0"/>
      <geometry>
        <cylinder length="0.01" radius="0.02"/>
      </geometry>
    </visual>
  </link>
  <joint name="right_index_flex_motor_joint" type="revolute">
    <origin rpy="0 0 0" xyz="0 -0.3 0"/>
    <parent link="right_gripper_base"/>
    <child link="right_index_flex_motor"/>
    <axis xyz="0 0 1"/>
    <limit effort="1000" lower="-2.3" upper="-0.08" velocity="2.0"/>
  </joint>
  <joint name="right_panda_gripper_joint" type="fixed">
    <parent link="right_panda_link8"/>
    <child link="right_gripper_base"/>
    <origin rpy="0 3.141592653589793 -0.7853981633974483" xyz="0 0 0"/>
  </joint>
  <joint name="left_panda_joint_support" type="fixed">
    <parent link="support"/>
    <child link="left_panda_link0"/>
    <origin rpy="0 0 0" xyz="0.06975 0.27 0.01"/>
  </joint>
  <!-- sub-link defining detailed meshes for collision with environment -->
  <link name="left_panda_link0">
    <visual>
      <geometry>
        <mesh filename="package://avatar_robot_description/meshes/visual/link0.dae"/>
      </geometry>
    </visual>
    <collision>
      <geometry>
        <mesh filename="package://avatar_robot_description/meshes/collision/link0.stl"/>
      </geometry>
    </collision>
    <inertial>
      <origin rpy="0 0 0" xyz="-0.041018 -0.00014 0.049974"/>
      <mass value="0.629769"/>
      <inertia ixx="0.00315" ixy="8.2904e-07" ixz="0.00015" iyy="0.00388" iyz="8.2299e-06" izz="0.004285"/>
    </inertial>
  </link>
  <!-- sub-link defining coarse geometries of real robot's internal self-collision -->
  <link name="left_panda_link0_sc">
  </link>
  <!-- fixed joint between both sub-links -->
  <joint name="left_panda_link0_sc_joint" type="fixed">
    <origin rpy="0 0 0"/>
    <parent link="left_panda_link0"/>
    <child link="left_panda_link0_sc"/>
  </joint>
  <!-- sub-link defining detailed meshes for collision with environment -->
  <link name="left_panda_link1">
    <visual>
      <geometry>
        <mesh filename="package://avatar_robot_description/meshes/visual/link1.dae"/>
      </geometry>
    </visual>
    <collision>
      <geometry>
        <mesh filename="package://avatar_robot_description/meshes/collision/link1.stl"/>
      </geometry>
    </collision>
    <inertial>
      <origin rpy="0 0 0" xyz="0.003875 0.002081 -0.04762"/>
      <mass value="4.970684"/>
      <inertia ixx="0.70337" ixy="-0.000139" ixz="0.006772" iyy="0.70661" iyz="0.019169" izz="0.009117"/>
    </inertial>
  </link>
  <!-- sub-link defining coarse geometries of real robot's internal self-collision -->
  <link name="left_panda_link1_sc">
  </link>
  <!-- fixed joint between both sub-links -->
  <joint name="left_panda_link1_sc_joint" type="fixed">
    <origin rpy="0 0 0"/>
    <parent link="left_panda_link1"/>
    <child link="left_panda_link1_sc"/>
  </joint>
  <joint name="left_panda_joint1" type="revolute">
    <origin rpy="0 0 0" xyz="0 0 0.333"/>
    <parent link="left_panda_link0"/>
    <child link="left_panda_link1"/>
    <axis xyz="0 0 1"/>
    <limit effort="87.0" lower="-2.8973" upper="2.8973" velocity="2.175"/>
    <safety_controller k_position="100.0" k_velocity="40.0" soft_lower_limit="-2.8973" soft_upper_limit="2.8973"/>
    <dynamics D="1" K="7000" damping="0.003" friction="0.0" mu_coulomb="0" mu_viscous="16"/>
  </joint>
  <!-- sub-link defining detailed meshes for collision with environment -->
  <link name="left_panda_link2">
    <visual>
      <geometry>
        <mesh filename="package://avatar_robot_description/meshes/visual/link2.dae"/>
      </geometry>
    </visual>
    <collision>
      <geometry>
        <mesh filename="package://avatar_robot_description/meshes/collision/link2.stl"/>
      </geometry>
    </collision>
    <inertial>
      <origin rpy="0 0 0" xyz="-0.003141 -0.02872  0.003495"/>
      <mass value="0.646926"/>
      <inertia ixx="0.007962" ixy="-0.003925" ixz="0.010254" iyy="0.02811" iyz="0.000704" izz="0.025995"/>
    </inertial>
  </link>
  <!-- sub-link defining coarse geometries of real robot's internal self-collision -->
  <link name="left_panda_link2_sc">
  </link>
  <!-- fixed joint between both sub-links -->
  <joint name="left_panda_link2_sc_joint" type="fixed">
    <origin rpy="0 0 0"/>
    <parent link="left_panda_link2"/>
    <child link="left_panda_link2_sc"/>
  </joint>
  <joint name="left_panda_joint2" type="revolute">
    <origin rpy="-1.5707963267948966 0 0" xyz="0 0 0"/>
    <parent link="left_panda_link1"/>
    <child link="left_panda_link2"/>
    <axis xyz="0 0 1"/>
    <limit effort="87.0" lower="-1.7628" upper="1.7628" velocity="2.175"/>
    <safety_controller k_position="100.0" k_velocity="40.0" soft_lower_limit="-1.7628" soft_upper_limit="1.7628"/>
    <dynamics D="1" K="7000" damping="0.003" friction="0.0" mu_coulomb="0" mu_viscous="16"/>
  </joint>
  <!-- sub-link defining detailed meshes for collision with environment -->
  <link name="left_panda_link3">
    <visual>
      <geometry>
        <mesh filename="package://avatar_robot_description/meshes/visual/link3.dae"/>
      </geometry>
    </visual>
    <collision>
      <geometry>
        <mesh filename="package://avatar_robot_description/meshes/collision/link3.stl"/>
      </geometry>
    </collision>
    <inertial>
      <origin rpy="0 0 0" xyz="2.7518e-02 3.9252e-02 -6.6502e-02"/>
      <mass value="3.228604"/>
      <inertia ixx="0.037242" ixy="-0.004761" ixz="-0.011396" iyy="0.036155" iyz="-0.012805" izz="0.01083"/>
    </inertial>
  </link>
  <!-- sub-link defining coarse geometries of real robot's internal self-collision -->
  <link name="left_panda_link3_sc">
  </link>
  <!-- fixed joint between both sub-links -->
  <joint name="left_panda_link3_sc_joint" type="fixed">
    <origin rpy="0 0 0"/>
    <parent link="left_panda_link3"/>
    <child link="left_panda_link3_sc"/>
  </joint>
  <joint name="left_panda_joint3" type="revolute">
    <origin rpy="1.5707963267948966 0 0" xyz="0 -0.316 0"/>
    <parent link="left_panda_link2"/>
    <child link="left_panda_link3"/>
    <axis xyz="0 0 1"/>
    <limit effort="87.0" lower="-2.8973" upper="2.8973" velocity="2.175"/>
    <safety_controller k_position="100.0" k_velocity="40.0" soft_lower_limit="-2.8973" soft_upper_limit="2.8973"/>
    <dynamics D="1" K="7000" damping="0.003" friction="0.0" mu_coulomb="0" mu_viscous="16"/>
  </joint>
  <!-- sub-link defining detailed meshes for collision with environment -->
  <link name="left_panda_link4">
    <visual>
      <geometry>
        <mesh filename="package://avatar_robot_description/meshes/visual/link4.dae"/>
      </geometry>
    </visual>
    <collision>
      <geometry>
        <mesh filename="package://avatar_robot_description/meshes/collision/link4.stl"/>
      </geometry>
    </collision>
    <inertial>
      <origin rpy="0 0 0" xyz="-5.317e-02 1.04419e-01 2.7454e-02"/>
      <mass value="3.587895"/>
      <inertia ixx="0.025853" ixy="0.007796" ixz="-0.001332" iyy="0.019552" iyz="0.008641" izz="0.028323"/>
    </inertial>
  </link>
  <!-- sub-link defining coarse geometries of real robot's internal self-collision -->
  <link name="left_panda_link4_sc">
  </link>
  <!-- fixed joint between both sub-links -->
  <joint name="left_panda_link4_sc_joint" type="fixed">
    <origin rpy="0 0 0"/>
    <parent link="left_panda_link4"/>
    <child link="left_panda_link4_sc"/>
  </joint>
  <joint name="left_panda_joint4" type="revolute">
    <origin rpy="1.5707963267948966 0 0" xyz="0.0825 0 0"/>
    <parent link="left_panda_link3"/>
    <child link="left_panda_link4"/>
    <axis xyz="0 0 1"/>
    <limit effort="87.0" lower="-3.0718" upper="-0.0698" velocity="2.175"/>
    <safety_controller k_position="100.0" k_velocity="40.0" soft_lower_limit="-3.0718" soft_upper_limit="-0.0698"/>
    <dynamics D="1" K="7000" damping="0.003" friction="0.0" mu_coulomb="0" mu_viscous="16"/>
  </joint>
  <!-- sub-link defining detailed meshes for collision with environment -->
  <link name="left_panda_link5">
    <visual>
      <geometry>
        <mesh filename="package://avatar_robot_description/meshes/visual/link5.dae"/>
      </geometry>
    </visual>
    <collision>
      <geometry>
        <mesh filename="package://avatar_robot_description/meshes/collision/link5.stl"/>
      </geometry>
    </collision>
    <inertial>
      <origin rpy="0 0 0" xyz="-1.1953e-02 4.1065e-02 -3.8437e-02"/>
      <mass value="1.225946"/>
      <inertia ixx="0.035549" ixy="-0.002117" ixz="-0.004037" iyy="0.029474" iyz="0.000229" izz="0.008627"/>
    </inertial>
  </link>
  <!-- sub-link defining coarse geometries of real robot's internal self-collision -->
  <link name="left_panda_link5_sc">
  </link>
  <!-- fixed joint between both sub-links -->
  <joint name="left_panda_link5_sc_joint" type="fixed">
    <origin rpy="0 0 0"/>
    <parent link="left_panda_link5"/>
    <child link="left_panda_link5_sc"/>
  </joint>
  <joint name="left_panda_joint5" type="revolute">
    <origin rpy="-1.5707963267948966 0 0" xyz="-0.0825 0.384 0"/>
    <parent link="left_panda_link4"/>
    <child link="left_panda_link5"/>
    <axis xyz="0 0 1"/>
    <limit effort="12.0" lower="-2.8973" upper="2.8973" velocity="2.61"/>
    <safety_controller k_position="100.0" k_velocity="40.0" soft_lower_limit="-2.8973" soft_upper_limit="2.8973"/>
    <dynamics D="1" K="7000" damping="0.003" friction="0.0" mu_coulomb="0" mu_viscous="16"/>
  </joint>
  <!-- sub-link defining detailed meshes for collision with environment -->
  <link name="left_panda_link6">
    <visual>
      <geometry>
        <mesh filename="package://avatar_robot_description/meshes/visual/link6.dae"/>
      </geometry>
    </visual>
    <collision>
      <geometry>
        <mesh filename="package://avatar_robot_description/meshes/collision/link6.stl"/>
      </geometry>
    </collision>
    <inertial>
      <origin rpy="0 0 0" xyz="6.0149e-02 -1.4117e-02 -1.0517e-02"/>
      <mass value="1.666555"/>
      <inertia ixx="0.001964" ixy="0.000109" ixz="-0.001158" iyy="0.004354" iyz="0.000341" izz="0.005433"/>
    </inertial>
  </link>
  <!-- sub-link defining coarse geometries of real robot's internal self-collision -->
  <link name="left_panda_link6_sc">
  </link>
  <!-- fixed joint between both sub-links -->
  <joint name="left_panda_link6_sc_joint" type="fixed">
    <origin rpy="0 0 0"/>
    <parent link="left_panda_link6"/>
    <child link="left_panda_link6_sc"/>
  </joint>
  <joint name="left_panda_joint6" type="revolute">
    <origin rpy="1.5707963267948966 0 0" xyz="0 0 0"/>
    <parent link="left_panda_link5"/>
    <child link="left_panda_link6"/>
    <axis xyz="0 0 1"/>
    <limit effort="12.0" lower="-0.0175" upper="3.7525" velocity="2.61"/>
    <safety_controller k_position="100.0" k_velocity="40.0" soft_lower_limit="-0.0175" soft_upper_limit="3.7525"/>
    <dynamics D="1" K="7000" damping="0.003" friction="0.0" mu_coulomb="0" mu_viscous="16"/>
  </joint>
  <!-- sub-link defining detailed meshes for collision with environment -->
  <link name="left_panda_link7">
    <visual>
      <geometry>
        <mesh filename="package://avatar_robot_description/meshes/visual/link7.dae"/>
      </geometry>
    </visual>
    <collision>
      <geometry>
        <mesh filename="package://avatar_robot_description/meshes/collision/link7.stl"/>
      </geometry>
    </collision>
    <inertial>
      <origin rpy="0 0 0" xyz="1.0517e-02 -4.252e-03 6.1597e-02"/>
      <mass value="0.735522"/>
      <inertia ixx="0.012516" ixy="-0.000428" ixz="-0.001196" iyy="0.010027" iyz="-0.000741" izz="0.004815"/>
    </inertial>
  </link>
  <!-- sub-link defining coarse geometries of real robot's internal self-collision -->
  <link name="left_panda_link7_sc">
  </link>
  <!-- fixed joint between both sub-links -->
  <joint name="left_panda_link7_sc_joint" type="fixed">
    <origin rpy="0 0 0.7853981633974483"/>
    <parent link="left_panda_link7"/>
    <child link="left_panda_link7_sc"/>
  </joint>
  <joint name="left_panda_joint7" type="revolute">
    <origin rpy="1.5707963267948966 0 0" xyz="0.088 0 0"/>
    <parent link="left_panda_link6"/>
    <child link="left_panda_link7"/>
    <axis xyz="0 0 1"/>
    <limit effort="12.0" lower="-2.8973" upper="2.8973" velocity="2.61"/>
    <safety_controller k_position="100.0" k_velocity="40.0" soft_lower_limit="-2.8973" soft_upper_limit="2.8973"/>
    <dynamics D="1" K="7000" damping="0.003" friction="0.0" mu_coulomb="0" mu_viscous="16"/>
  </joint>
  <link name="left_panda_link8"/>
  <joint name="left_panda_joint8" type="fixed">
    <origin rpy="0 0 0" xyz="0 0 0.107"/>
    <parent link="left_panda_link7"/>
    <child link="left_panda_link8"/>
  </joint>
  <link name="left_thumb_base">
    <inertial>
      <mass value="0.5"/>
      <inertia ixx="4E-5" ixy="0.0" ixz="0.0" iyy="4E-5" iyz="0.0" izz="4E-5"/>
    </inertial>
    <visual>
      <origin rpy="0 0 0" xyz="0 0 0"/>
      <geometry>
        <mesh filename="package://avatar_gripper_description/meshes/left/thumb_base_extra.STL"/>
      </geometry>
      <material name="">
        <color rgba="0.9 0.9 0.9 1"/>
      </material>
    </visual>
    <collision>
      <origin rpy="0 0 0" xyz="0 0 0"/>
      <geometry>
        <mesh filename="package://avatar_gripper_description/meshes/left/thumb_base_extra.STL"/>
      </geometry>
    </collision>
  </link>
  <link name="left_thumb_knuckle">
    <inertial>
      <mass value="0.5"/>
      <inertia ixx="4E-5" ixy="0.0" ixz="0.0" iyy="4E-5" iyz="0.0" izz="4E-5"/>
    </inertial>
    <visual>
      <origin rpy="0 0 0" xyz="0 0 0"/>
      <geometry>
        <mesh filename="package://avatar_gripper_description/meshes/left/thumb_knuckle.STL"/>
      </geometry>
      <material name="">
        <color rgba="0.9 0.9 0.9 1"/>
      </material>
    </visual>
    <collision>
      <origin rpy="0 0 0" xyz="0 0 0"/>
      <geometry>
        <mesh filename="package://avatar_gripper_description/meshes/left/thumb_knuckle.STL"/>
      </geometry>
    </collision>
  </link>
  <joint name="left_thumb_knuckle_joint" type="revolute">
    <origin rpy="0 2.75 0" xyz="0 0 0"/>
    <parent link="left_thumb_base"/>
    <child link="left_thumb_knuckle"/>
    <axis xyz="0 1 0"/>
    <limit effort="1000" lower="-1.0" upper="0.4" velocity="2.0"/>
  </joint>
  <link name="left_thumb_finger">
    <inertial>
      <mass value="0.5"/>
      <inertia ixx="4E-5" ixy="0.0" ixz="0.0" iyy="4E-5" iyz="0.0" izz="4E-5"/>
    </inertial>
    <visual>
      <origin rpy="0 0 0" xyz="0 0 0"/>
      <geometry>
        <mesh filename="package://avatar_gripper_description/meshes/left/thumb_fingertip.STL"/>
      </geometry>
      <material name="">
        <color rgba="0.9 0.9 0.9 1"/>
      </material>
    </visual>
    <collision>
      <origin rpy="0 0 0" xyz="0 0 0"/>
      <geometry>
        <mesh filename="package://avatar_gripper_description/meshes/left/thumb_fingertip.STL"/>
      </geometry>
    </collision>
  </link>
  <joint name="left_thumb_finger_joint" type="revolute">
    <origin rpy="0 0.57 0" xyz="0.04568 0 0.01106"/>
    <parent link="left_thumb_knuckle"/>
    <child link="left_thumb_finger"/>
    <axis xyz="0 1 0"/>
    <limit effort="1000" lower="-0.8" upper="0" velocity="2.0"/>
  </joint>
  <link name="left_thumb_swivel_link">
    <inertial>
      <mass value="0.1"/>
      <inertia ixx="4E-5" ixy="0.0" ixz="0.0" iyy="4E-5" iyz="0.0" izz="4E-5"/>
    </inertial>
    <visual>
      <origin rpy="0 0 0" xyz="0 0 0"/>
      <geometry>
        <mesh filename="package://avatar_gripper_description/meshes/left/thumb_swivel_link.STL"/>
      </geometry>
      <material name="">
        <color rgba="0.9 0.9 0.9 1"/>
      </material>
    </visual>
    <collision>
      <origin rpy="0 0 0" xyz="0 0 0"/>
      <geometry>
        <mesh filename="package://avatar_gripper_description/meshes/left/thumb_swivel_link.STL"/>
      </geometry>
    </collision>
  </link>
  <joint name="left_thumb_swivel_joint" type="revolute">
    <origin rpy="0 0 0.7853" xyz="0 0 0.0173"/>
    <parent link="left_index_base_connector"/>
    <child link="left_thumb_swivel_link"/>
    <axis xyz="0 0 1"/>
    <limit effort="1000" lower="0" upper="1.7" velocity="2.0"/>
  </joint>
  <joint name="left_thumb_base_swivel_joint" type="fixed">
    <origin rpy="0 0 0" xyz="-0.03742 0 0.05089"/>
    <parent link="left_thumb_swivel_link"/>
    <child link="left_thumb_base"/>
  </joint>
  <link name="left_index_base_connector">
    <inertial>
      <mass value="0.02"/>
      <inertia ixx="4E-5" ixy="0.0" ixz="0.0" iyy="4E-5" iyz="0.0" izz="4E-5"/>
    </inertial>
    <visual>
      <origin rpy="0 0 0" xyz="0 0 0"/>
      <geometry>
        <mesh filename="package://avatar_gripper_description/meshes/left/index_base_connector.STL"/>
      </geometry>
      <material name="">
        <color rgba="0.9 0.9 0.9 1"/>
      </material>
    </visual>
  </link>
  <link name="left_index_knuckle">
    <inertial>
      <mass value="0.5"/>
      <inertia ixx="4E-5" ixy="0.0" ixz="0.0" iyy="4E-5" iyz="0.0" izz="4E-5"/>
    </inertial>
    <visual>
      <origin rpy="0 0 0" xyz="0 0 0"/>
      <geometry>
        <mesh filename="package://avatar_gripper_description/meshes/left/index_knuckle.STL"/>
      </geometry>
      <material name="">
        <color rgba="0.9 0.9 0.9 1"/>
      </material>
    </visual>
    <collision>
      <origin rpy="0 0 0" xyz="0 0 0"/>
      <geometry>
        <mesh filename="package://avatar_gripper_description/meshes/left/index_knuckle.STL"/>
      </geometry>
    </collision>
  </link>
  <joint name="left_index_knuckle_joint" type="revolute">
    <origin rpy="1.19730672 1.07478656 1.15162329" xyz="+0.021564878 0.008545 -0.0024358"/>
    <parent link="left_index_base_connector"/>
    <child link="left_index_knuckle"/>
    <axis xyz="0 0 1"/>
    <limit effort="1000" lower="-0.8" upper="0" velocity="2.0"/>
  </joint>
  <link name="left_index_fingertip">
    <inertial>
      <mass value="0.5"/>
      <inertia ixx="4E-5" ixy="0.0" ixz="0.0" iyy="4E-5" iyz="0.0" izz="4E-5"/>
    </inertial>
    <visual>
      <origin rpy="0 0 0" xyz="0 0 0"/>
      <geometry>
        <mesh filename="package://avatar_gripper_description/meshes/left/index_fingertip.STL"/>
      </geometry>
      <material name="">
        <color rgba="0.9 0.9 0.9 1"/>
      </material>
    </visual>
    <collision>
      <origin rpy="0 0 0" xyz="0 0 0"/>
      <geometry>
        <mesh filename="package://avatar_gripper_description/meshes/left/index_fingertip.STL"/>
      </geometry>
    </collision>
  </link>
  <joint name="left_index_fingertip_joint" type="revolute">
    <origin rpy="0 0 -0.35" xyz="0.0353829 -0.02780 0"/>
    <parent link="left_index_knuckle"/>
    <child link="left_index_fingertip"/>
    <axis xyz="0 0 1"/>
    <limit effort="1000" lower="-0.8" upper="0" velocity="2.0"/>
  </joint>
  <link name="left_middle_knuckle">
    <inertial>
      <mass value="0.5"/>
      <inertia ixx="4E-5" ixy="0.0" ixz="0.0" iyy="4E-5" iyz="0.0" izz="4E-5"/>
    </inertial>
    <visual>
      <origin rpy="0 0 0" xyz="0 0 0"/>
      <geometry>
        <mesh filename="package://avatar_gripper_description/meshes/left/index_knuckle.STL"/>
      </geometry>
      <material name="">
        <color rgba="0.9 0.9 0.9 1"/>
      </material>
    </visual>
    <collision>
      <origin rpy="0 0 0" xyz="0 0 0"/>
      <geometry>
        <mesh filename="package://avatar_gripper_description/meshes/left/index_knuckle.STL"/>
      </geometry>
    </collision>
  </link>
  <joint name="left_middle_knuckle_joint" type="revolute">
    <origin rpy="1.94428593 1.07478656 1.98996937" xyz="-0.02156 0.008545 -0.0024358"/>
    <parent link="left_index_base_connector"/>
    <child link="left_middle_knuckle"/>
    <axis xyz="0 0 1"/>
    <limit effort="1000" lower="-0.8" upper="0" velocity="2.0"/>
  </joint>
  <link name="left_middle_fingertip">
    <inertial>
      <mass value="0.5"/>
      <inertia ixx="4E-5" ixy="0.0" ixz="0.0" iyy="4E-5" iyz="0.0" izz="4E-5"/>
    </inertial>
    <visual>
      <origin rpy="0 0 0" xyz="0 0 0"/>
      <geometry>
        <mesh filename="package://avatar_gripper_description/meshes/left/index_fingertip.STL"/>
      </geometry>
      <material name="">
        <color rgba="0.9 0.9 0.9 1"/>
      </material>
    </visual>
    <collision>
      <origin rpy="0 0 0" xyz="0 0 0"/>
      <geometry>
        <mesh filename="package://avatar_gripper_description/meshes/left/index_fingertip.STL"/>
      </geometry>
    </collision>
  </link>
  <joint name="left_middle_fingertip_joint" type="revolute">
    <origin rpy="0 0 -0.35" xyz="0.0353829 -0.02780 0"/>
    <parent link="left_middle_knuckle"/>
    <child link="left_middle_fingertip"/>
    <axis xyz="0 0 1"/>
    <limit effort="1000" lower="-0.8" upper="0" velocity="2.0"/>
  </joint>
  <link name="left_gripper_base">
    <inertial>
      <mass value="2.0"/>
      <inertia ixx="7.11E-3" ixy="0.0" ixz="0.0" iyy="7.11E-3" iyz="0.0" izz="7.11E-3"/>
    </inertial>
    <visual>
      <origin rpy="0 0 0" xyz="0 0 0"/>
      <geometry>
        <mesh filename="package://avatar_gripper_description/meshes/left/gripper_base.STL"/>
      </geometry>
      <material name="">
        <color rgba="0.9 0.9 0.7 1"/>
      </material>
    </visual>
    <collision>
      <origin rpy="0 0 0" xyz="0 0 -0.03"/>
      <geometry>
        <box size="0.1 0.1 0.06"/>
      </geometry>
    </collision>
  </link>
  <joint name="left_gripper_base_joint" type="fixed">
    <origin rpy="1.57 0 0" xyz="-0.00736 0.139 -0.066017"/>
    <parent link="left_gripper_base"/>
    <child link="left_index_base_connector"/>
  </joint>
  <link name="left_thumb_flex_motor">
    <inertial>
      <mass value="0.25"/>
      <inertia ixx="1.463E-04" ixy="0" ixz="0" iyy="1.463E-04" iyz="0" izz="1.463E-04"/>
    </inertial>
    <visual>
      <origin rpy="0 0 0" xyz="0 0 0"/>
      <geometry>
        <cylinder length="0.01" radius="0.02"/>
      </geometry>
    </visual>
  </link>
  <joint name="left_thumb_flex_motor_joint" type="revolute">
    <origin rpy="0 0 0" xyz="-0.05 -0.3 0"/>
    <parent link="left_gripper_base"/>
    <child link="left_thumb_flex_motor"/>
    <axis xyz="0 0 1"/>
    <limit effort="1000" lower="-2.3" upper="-0.08" velocity="2.0"/>
  </joint>
  <link name="left_thumb_swivel_motor">
    <inertial>
      <mass value="0.25"/>
      <inertia ixx="1.463E-04" ixy="0" ixz="0" iyy="1.463E-04" iyz="0" izz="1.463E-04"/>
    </inertial>
    <visual>
      <origin rpy="0 0 0" xyz="0 0 0"/>
      <geometry>
        <cylinder length="0.01" radius="0.02"/>
      </geometry>
    </visual>
  </link>
  <joint name="left_thumb_swivel_motor_joint" type="revolute">
    <origin rpy="0 0 0" xyz="-0.1 -0.3 0"/>
    <parent link="left_gripper_base"/>
    <child link="left_thumb_swivel_motor"/>
    <axis xyz="0 0 1"/>
    <limit effort="1000" lower="-2.3" upper="-0.05" velocity="2.0"/>
  </joint>
  <link name="left_index_flex_motor">
    <inertial>
      <mass value="0.25"/>
      <inertia ixx="1.463E-04" ixy="0" ixz="0" iyy="1.463E-04" iyz="0" izz="1.463E-04"/>
    </inertial>
    <visual>
      <origin rpy="0 0 0" xyz="0 0 0"/>
      <geometry>
        <cylinder length="0.01" radius="0.02"/>
      </geometry>
    </visual>
  </link>
  <joint name="left_index_flex_motor_joint" type="revolute">
    <origin rpy="0 0 0" xyz="0 -0.3 0"/>
    <parent link="left_gripper_base"/>
    <child link="left_index_flex_motor"/>
    <axis xyz="0 0 1"/>
    <limit effort="1000" lower="-2.3" upper="-0.08" velocity="2.0"/>
  </joint>
  <joint name="left_panda_gripper_joint" type="fixed">
    <parent link="left_panda_link8"/>
    <child link="left_gripper_base"/>
    <origin rpy="0 3.141592653589793 -0.7853981633974483" xyz="0 0 0"/>
  </joint>
</robot>
